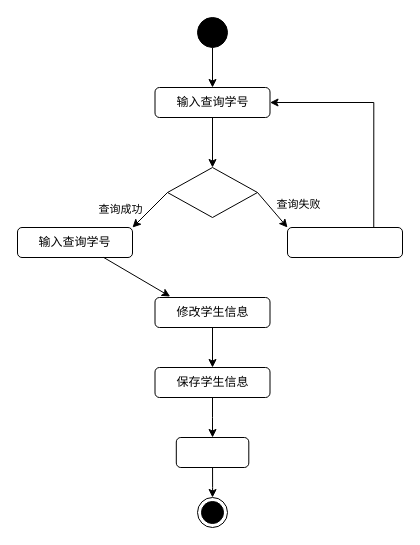
Some shapes in this 420 by 545 pixel diagram are drawn without their labels. The centre of each missing label's shape, as x and y in pixels:
"显示学生不存在" goes at [344,242].
"退出" goes at [212,452].
